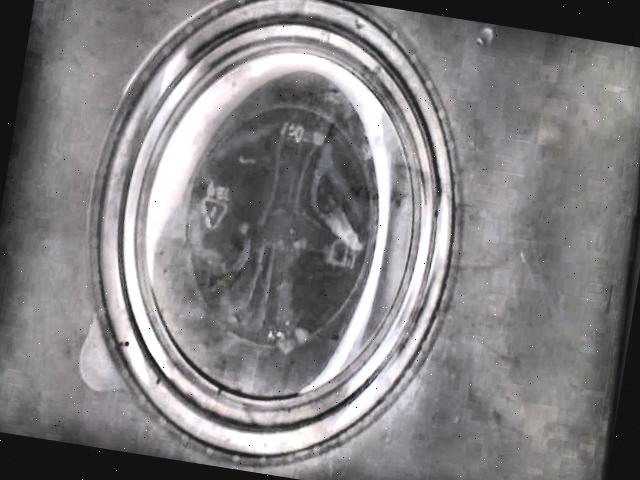Plastic: (78, 0, 465, 467)
